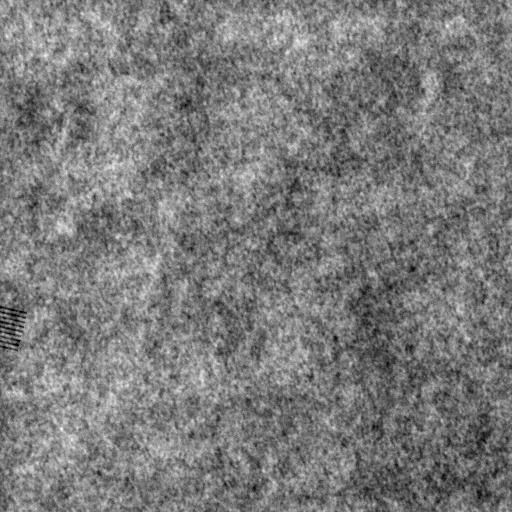DefectTypeB: (2, 303, 28, 355)
